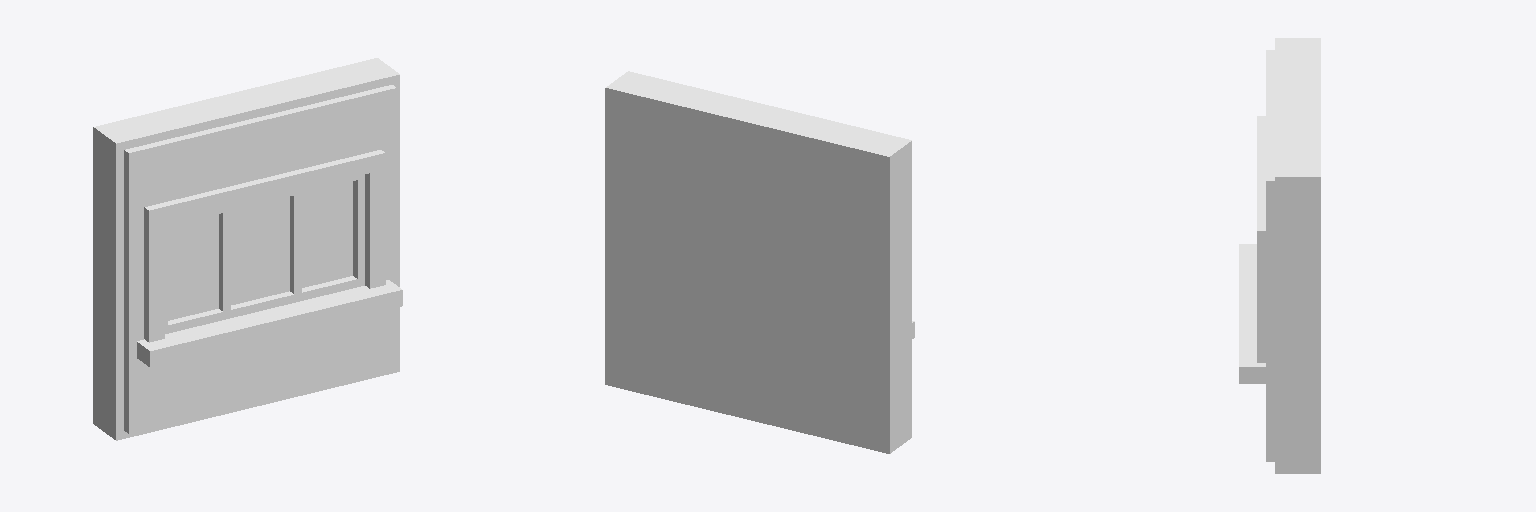
File: fenetre-12.obj
The picture shows the model from 3 angles: view 1: azimuth 30°, elevation 25°; view 2: azimuth 150°, elevation 25°; view 3: azimuth 270°, elevation 25°; orthographic projection.
Parts seen in each view (by area): view 1: object 1; view 2: object 1; view 3: object 1.
Part boxes in pixels (x1,y1,x2,y2): object 1: (93, 58, 402, 440); object 1: (605, 71, 914, 453); object 1: (1239, 38, 1320, 473).
Size of the model in its own units: 3.6 by 3.6 by 0.9.